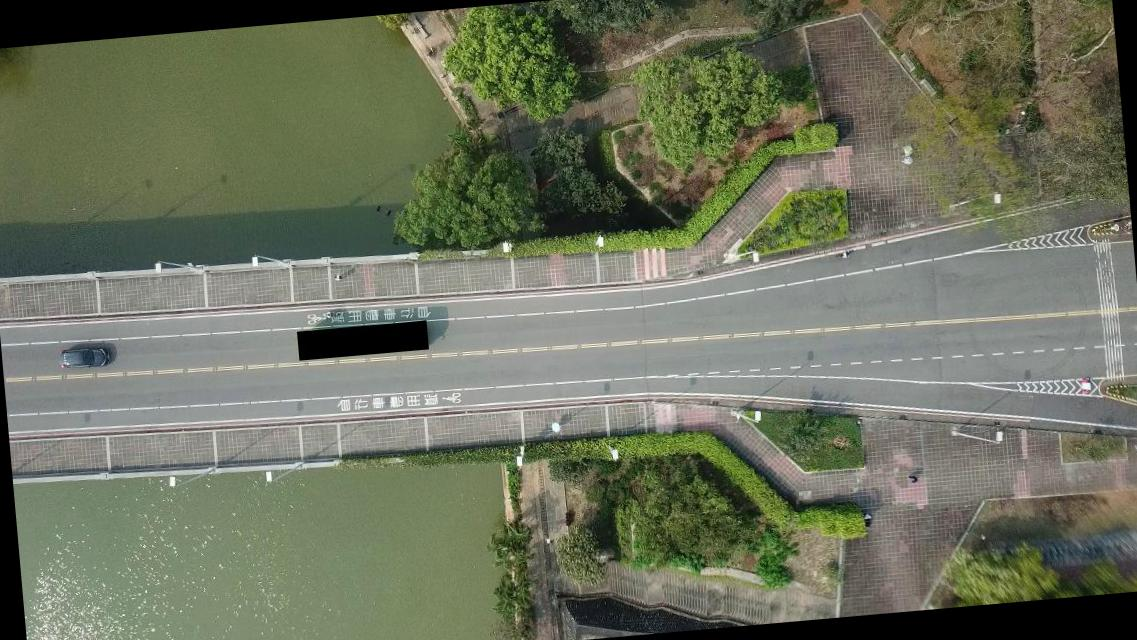vehicle: (58, 346, 110, 371)
